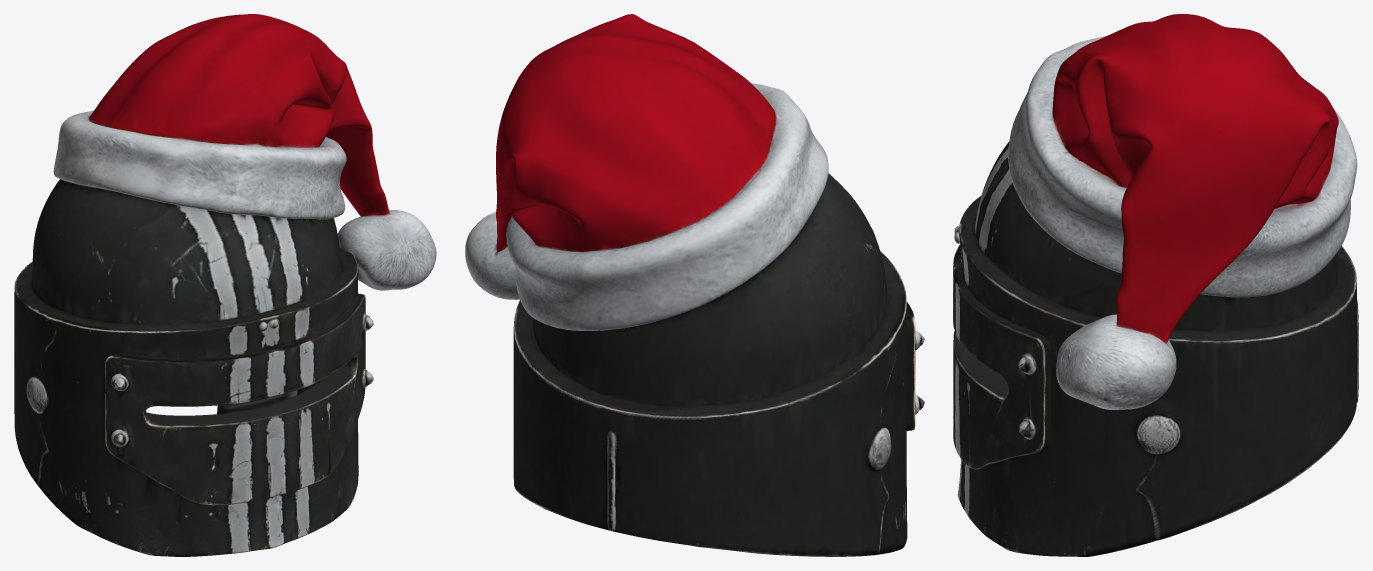
The model's file is helmet-killa-ng.glb.
3 views of the same model, side by side, from view 1: azimuth 30°, elevation 25°; view 2: azimuth 150°, elevation 25°; view 3: azimuth 270°, elevation 25° (orthographic). The views are drawn at different scales.
Visible parts, largest first — view 1: tripo_node_a1def32f-dcb7-41b1-8875-952f99a34f8d; view 2: tripo_node_a1def32f-dcb7-41b1-8875-952f99a34f8d; view 3: tripo_node_a1def32f-dcb7-41b1-8875-952f99a34f8d.
Part boxes in pixels (bbox=[...]): tripo_node_a1def32f-dcb7-41b1-8875-952f99a34f8d: bbox=[14, 14, 436, 556]; tripo_node_a1def32f-dcb7-41b1-8875-952f99a34f8d: bbox=[465, 14, 924, 556]; tripo_node_a1def32f-dcb7-41b1-8875-952f99a34f8d: bbox=[953, 14, 1358, 556].
Bounding box in the file's own units: 0.8509 × 0.9798 × 0.6852.
Materials: 1 (1 with a texture image).
